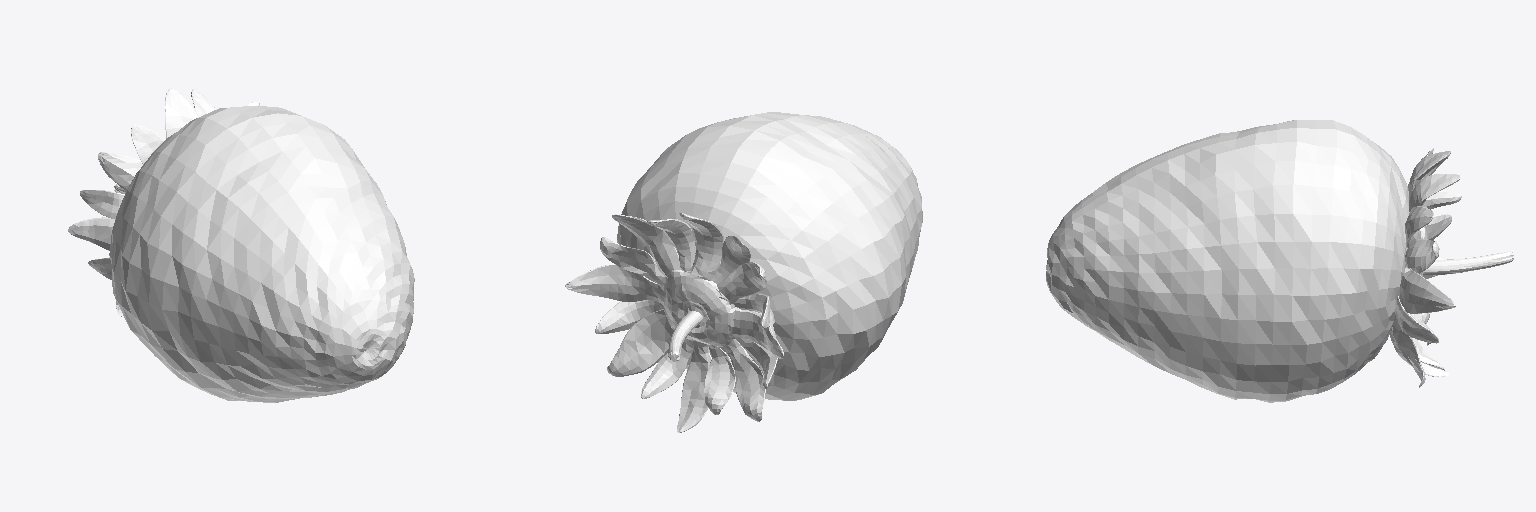
File: Strawberry_align.obj
3 views of the same model, side by side, from view 1: azimuth 30°, elevation 25°; view 2: azimuth 150°, elevation 25°; view 3: azimuth 270°, elevation 25° (orthographic).
Bounding box in the file's own units: 0.0485 × 0.0482 × 0.0782.